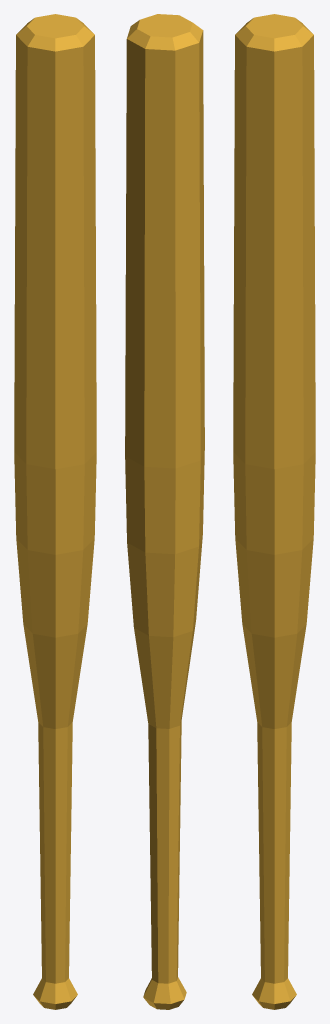
Rendered from BaseballBat.fbx.
The picture shows the model from 3 angles, left to right: view 1: azimuth 90°, elevation 25°; view 2: azimuth 150°, elevation 25°; view 3: azimuth 270°, elevation 25°; orthographic projection.
Visible parts, largest first — view 1: Cylinder; view 2: Cylinder; view 3: Cylinder.
Boxes of the visible parts, <box> form: Cylinder: <box>14,14,96,1009</box>; Cylinder: <box>125,14,204,1009</box>; Cylinder: <box>233,14,315,1009</box>.
Bounding box in the file's own units: 6.88 × 89.75 × 6.88.
